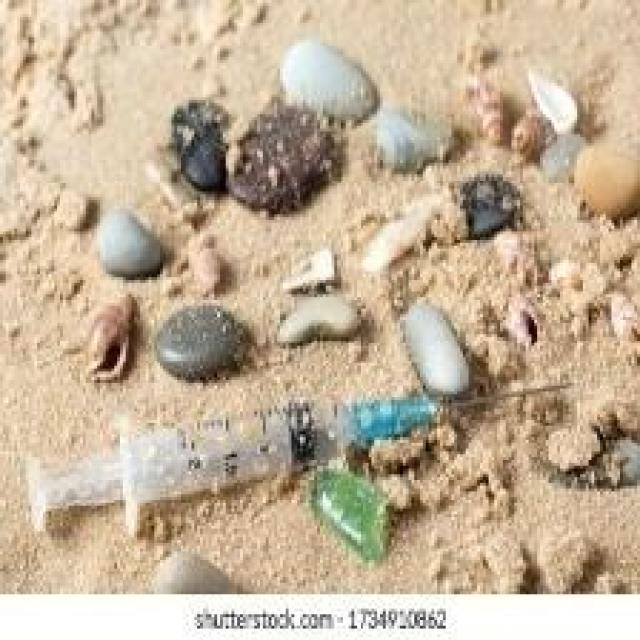syringe: (8, 362, 587, 530)
